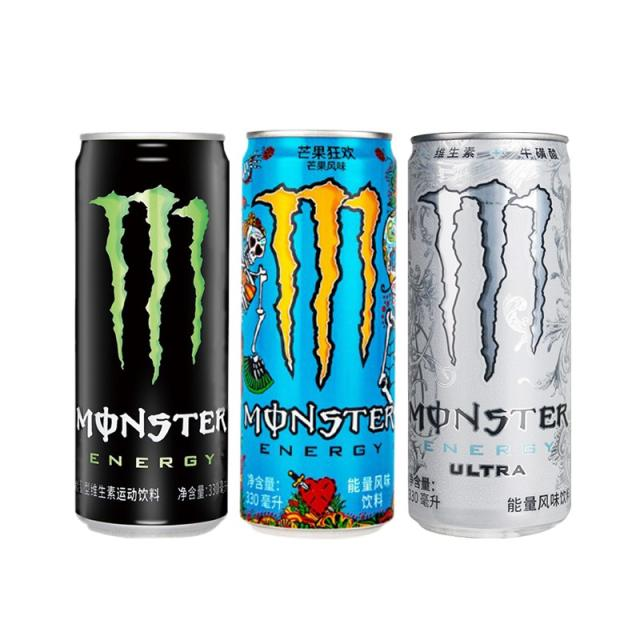can: (406, 128, 574, 541), (239, 125, 397, 538), (72, 127, 231, 537)
